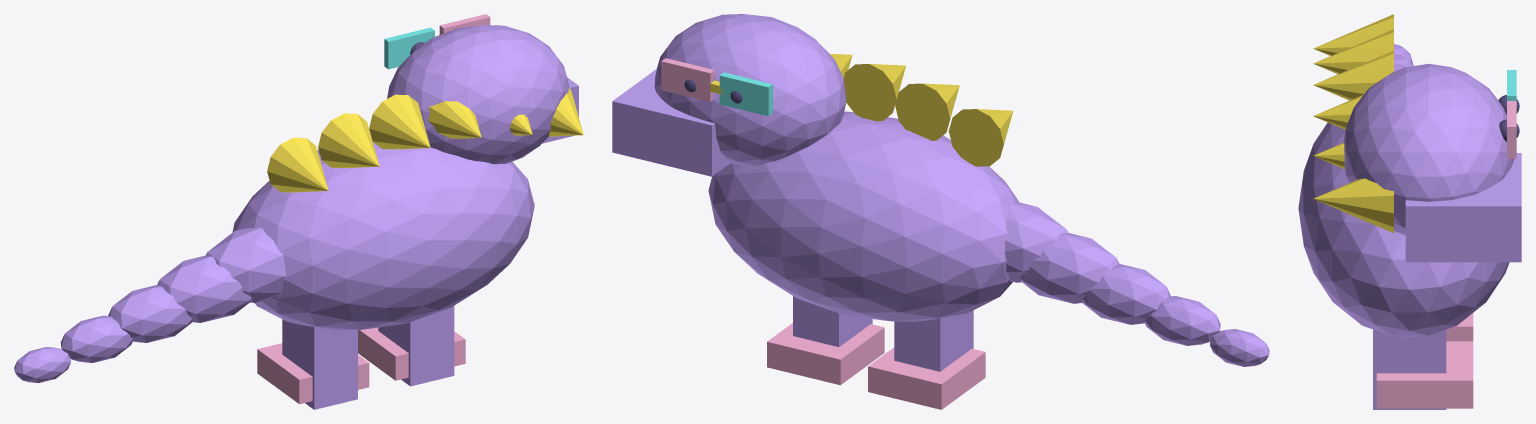
The model's file is treasure_dino.glb.
The picture shows the model from 3 angles, left to right: view 1: azimuth 30°, elevation 25°; view 2: azimuth 150°, elevation 25°; view 3: azimuth 270°, elevation 25°; orthographic projection. The views are drawn at different scales.
Visible parts, largest first — view 1: Body, Head, Leg-0.42, Tail1, Tail0, Leg0.24, Tail2, Spike0, Spike2, Spike1, Tail3, Foot-0.42 (+5 smaller); view 2: Body, Head, Snout, Foot-0.42, Foot0.24, Tail1, Leg-0.42, Tail2, Tail0, Spike0, Spike2, Spike1 (+5 smaller); view 3: Head, Body, Snout, Foot0.24, Leg0.24, Spike5, Spike2, Spike1, Spike0, Spike3, GlassR, Foot-0.42 (+2 smaller).
Part boxes in pixels (x1,y1,x2,y2): Body: [232, 142, 534, 330]; Head: [387, 25, 568, 164]; Leg-0.42: [282, 319, 357, 409]; Tail1: [157, 255, 251, 322]; Tail0: [205, 227, 285, 302]; Leg0.24: [378, 306, 454, 386]; Tail2: [108, 285, 192, 342]; Spike0: [267, 137, 328, 192]; Spike2: [369, 94, 430, 149]; Spike1: [318, 113, 379, 167]; Tail3: [60, 315, 132, 362]; Foot-0.42: [257, 343, 369, 404]; Body: [708, 111, 1019, 321]; Head: [654, 14, 846, 165]; Snout: [612, 69, 730, 176]; Foot-0.42: [868, 347, 985, 409]; Foot0.24: [767, 323, 884, 385]; Tail1: [1019, 233, 1119, 303]; Leg-0.42: [894, 310, 973, 371]; Tail2: [1082, 264, 1170, 324]; Tail0: [1005, 202, 1068, 282]; Spike0: [948, 109, 1013, 166]; Spike2: [843, 64, 905, 121]; Spike1: [895, 83, 959, 140]; Head: [1343, 63, 1514, 235]; Body: [1298, 122, 1509, 336]; Snout: [1405, 153, 1521, 262]; Foot0.24: [1376, 341, 1473, 408]; Leg0.24: [1373, 329, 1446, 409]; Spike5: [1313, 178, 1393, 232]; Spike2: [1313, 50, 1393, 100]; Spike1: [1313, 29, 1393, 74]; Spike0: [1313, 14, 1393, 55]; Spike3: [1313, 94, 1363, 129]; GlassR: [1507, 101, 1516, 158]; Foot-0.42: [1446, 313, 1473, 341].
Bounding box in the file's own units: 3.91 × 2.06 × 1.16.
